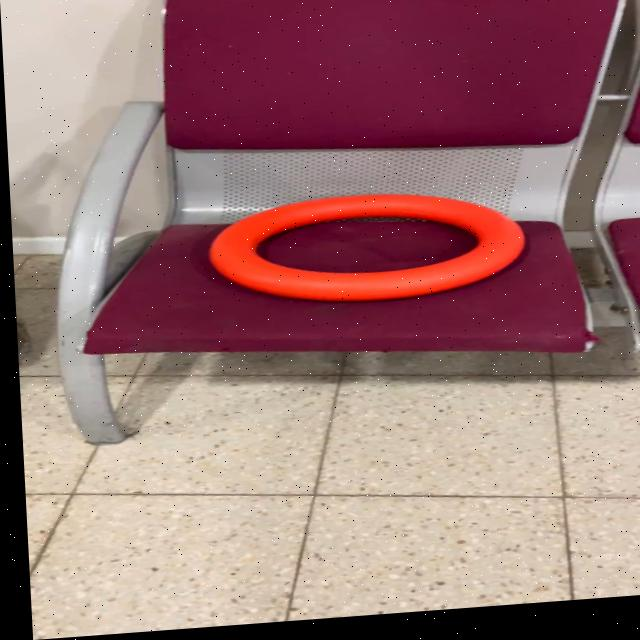note: (200, 188, 527, 318)
